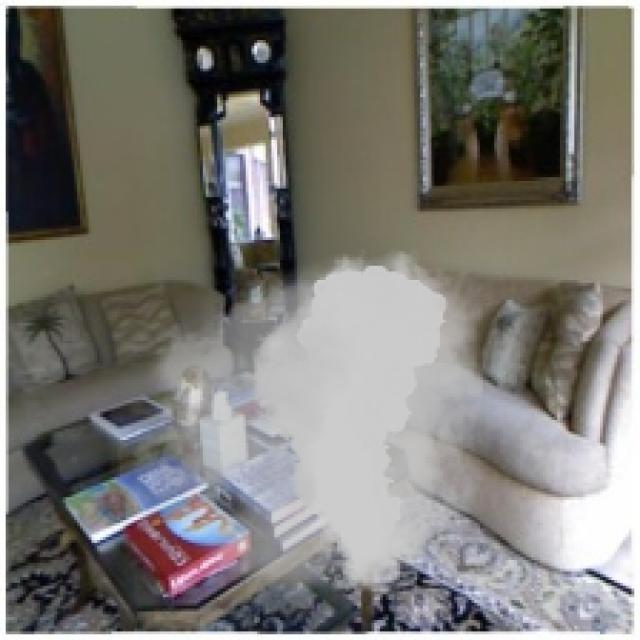smoke: (109, 240, 514, 617)
